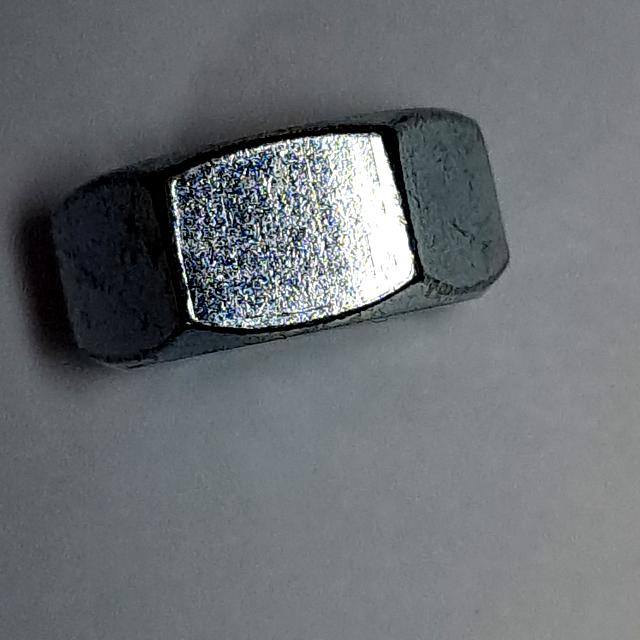Side_Excellent: (43, 96, 518, 382)
